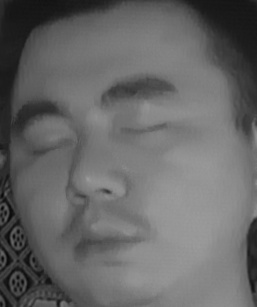blink: (120, 112, 170, 149), (29, 129, 71, 162)
mouth: (58, 208, 148, 265)
